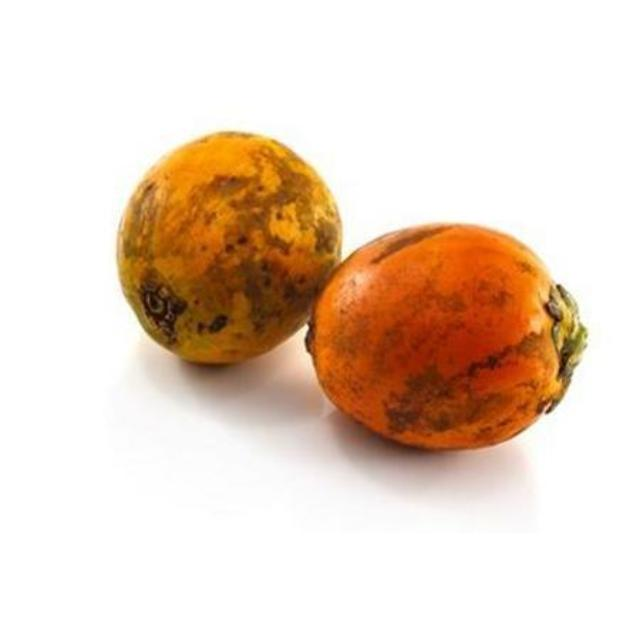good: (306, 224, 589, 453), (118, 133, 343, 367)
